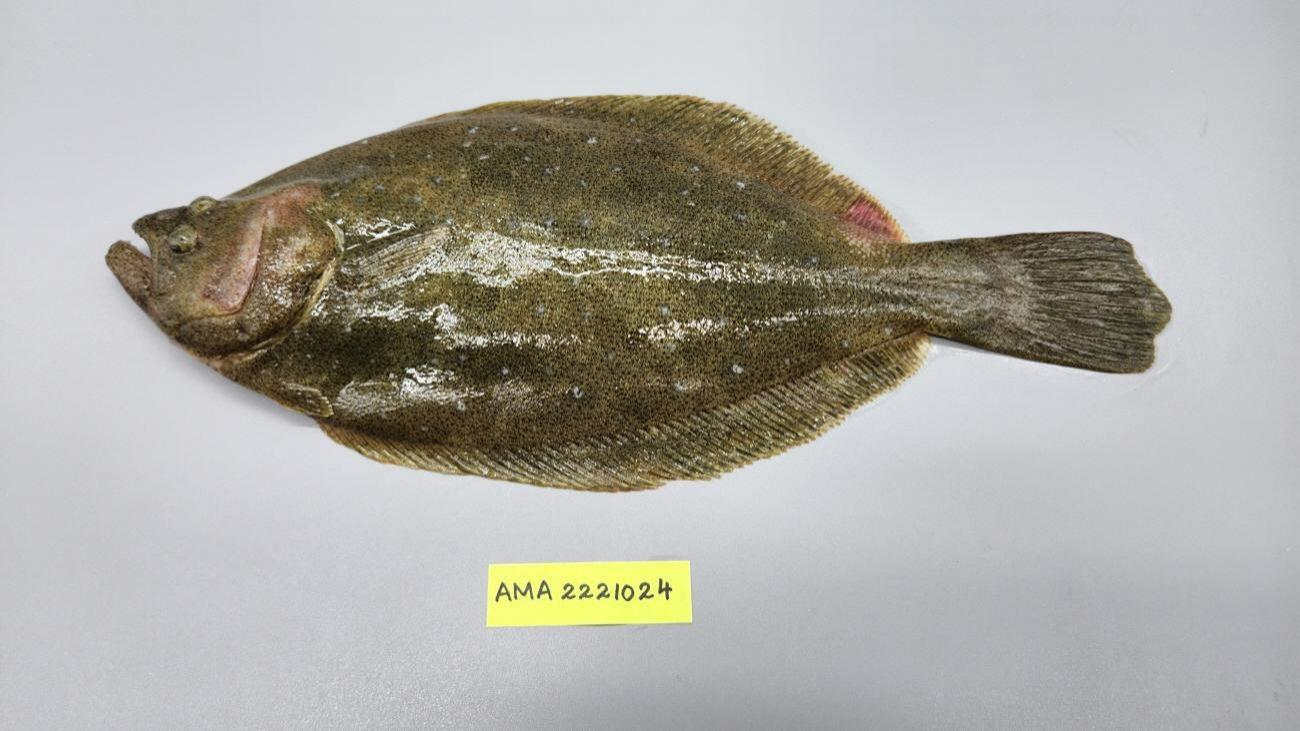MAOUY: (105, 94, 1170, 494)
